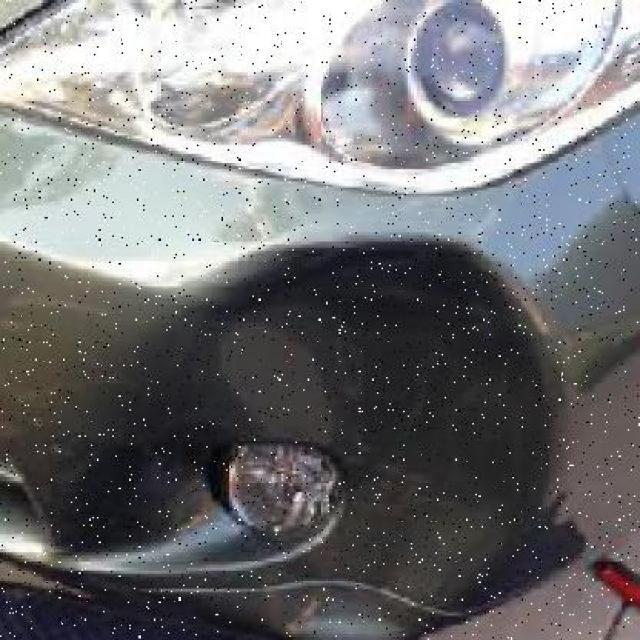car damage: (87, 229, 578, 640)
